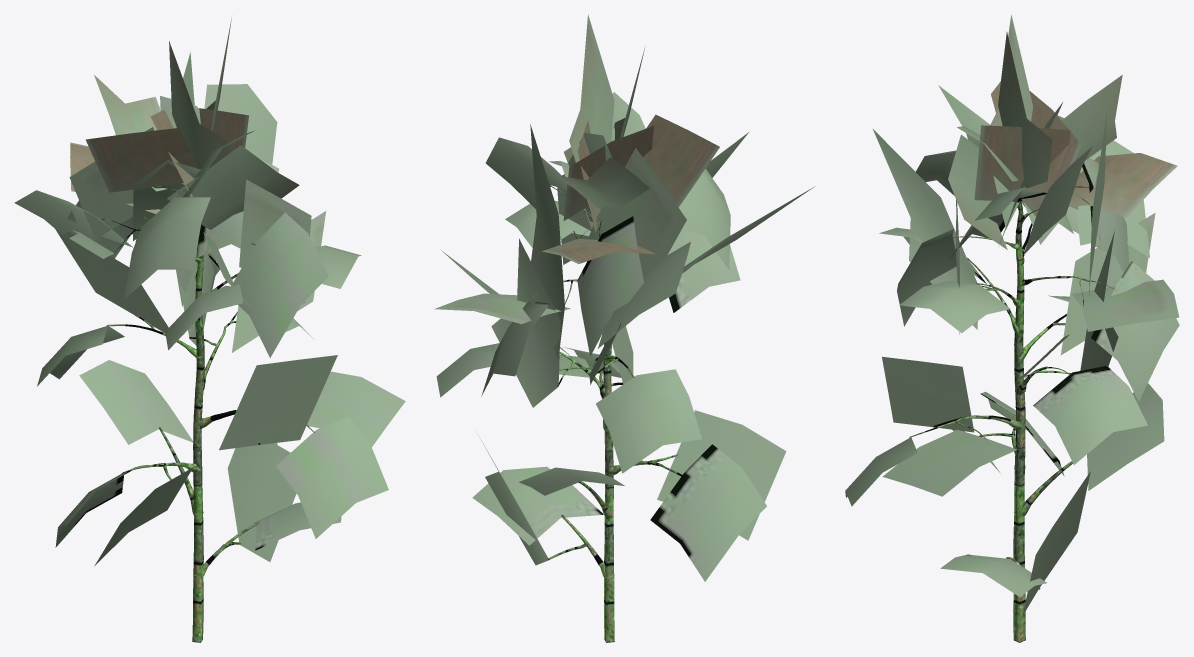
Rendered from oakLeav.obj.
The picture shows the model from 3 angles, left to right: view 1: azimuth 30°, elevation 25°; view 2: azimuth 150°, elevation 25°; view 3: azimuth 270°, elevation 25°; orthographic projection.
Parts seen in each view (by area): view 1: Oak_Leav; view 2: Oak_Leav; view 3: Oak_Leav.
Part boxes in pixels (x1,y1,x2,y2): Oak_Leav: (14,17,405,642); Oak_Leav: (434,14,815,642); Oak_Leav: (845,15,1179,642).
Bounding box in the file's own units: 1.51 × 2.65 × 1.29.
